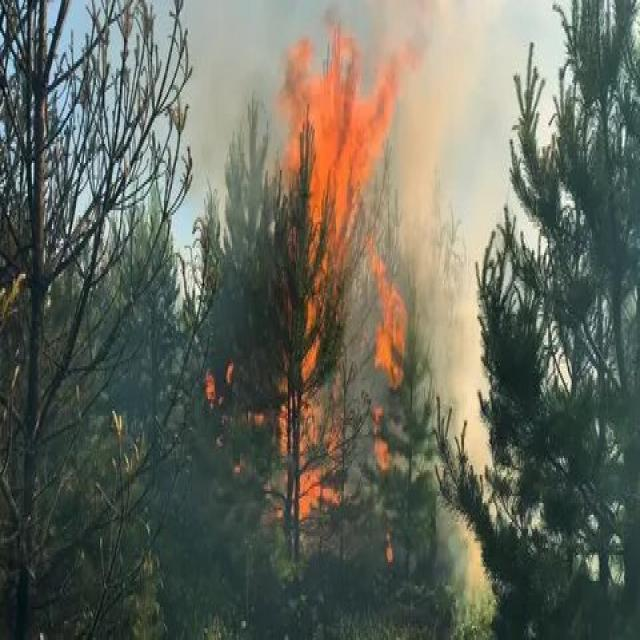Fire: (209, 8, 434, 565)
